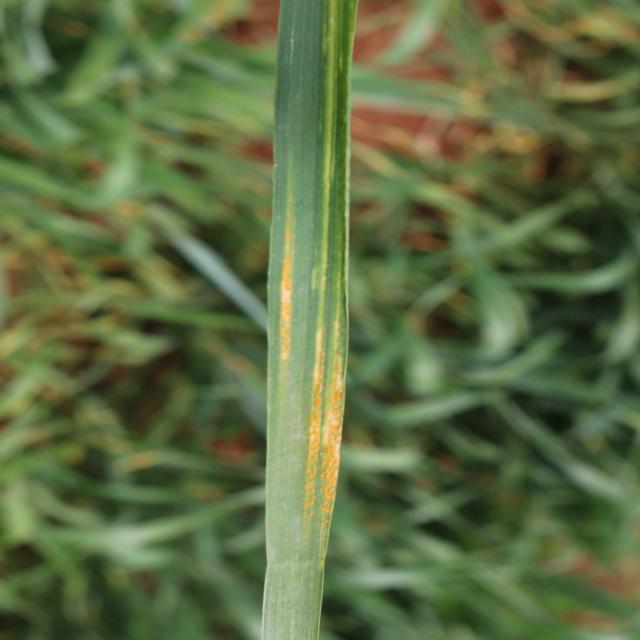Stripe Rust: (298, 312, 346, 532), (278, 203, 290, 364)
